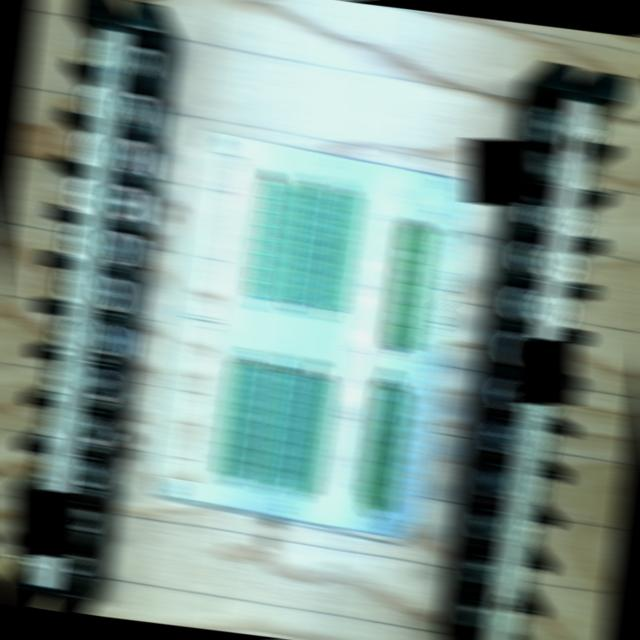Flathead_Block: (458, 63, 630, 640)
Terminal_1: (385, 223, 436, 349), (359, 387, 410, 513)
Terminal_2: (0, 0, 162, 615), (313, 189, 362, 311), (277, 182, 326, 303), (287, 376, 336, 496), (250, 369, 298, 489), (214, 361, 261, 480)
